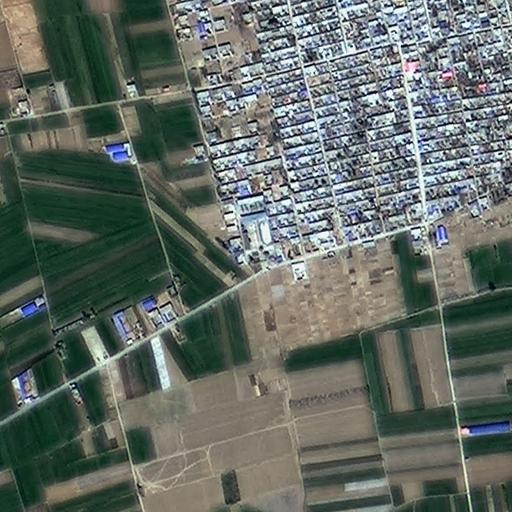school: (235, 192, 274, 270)
